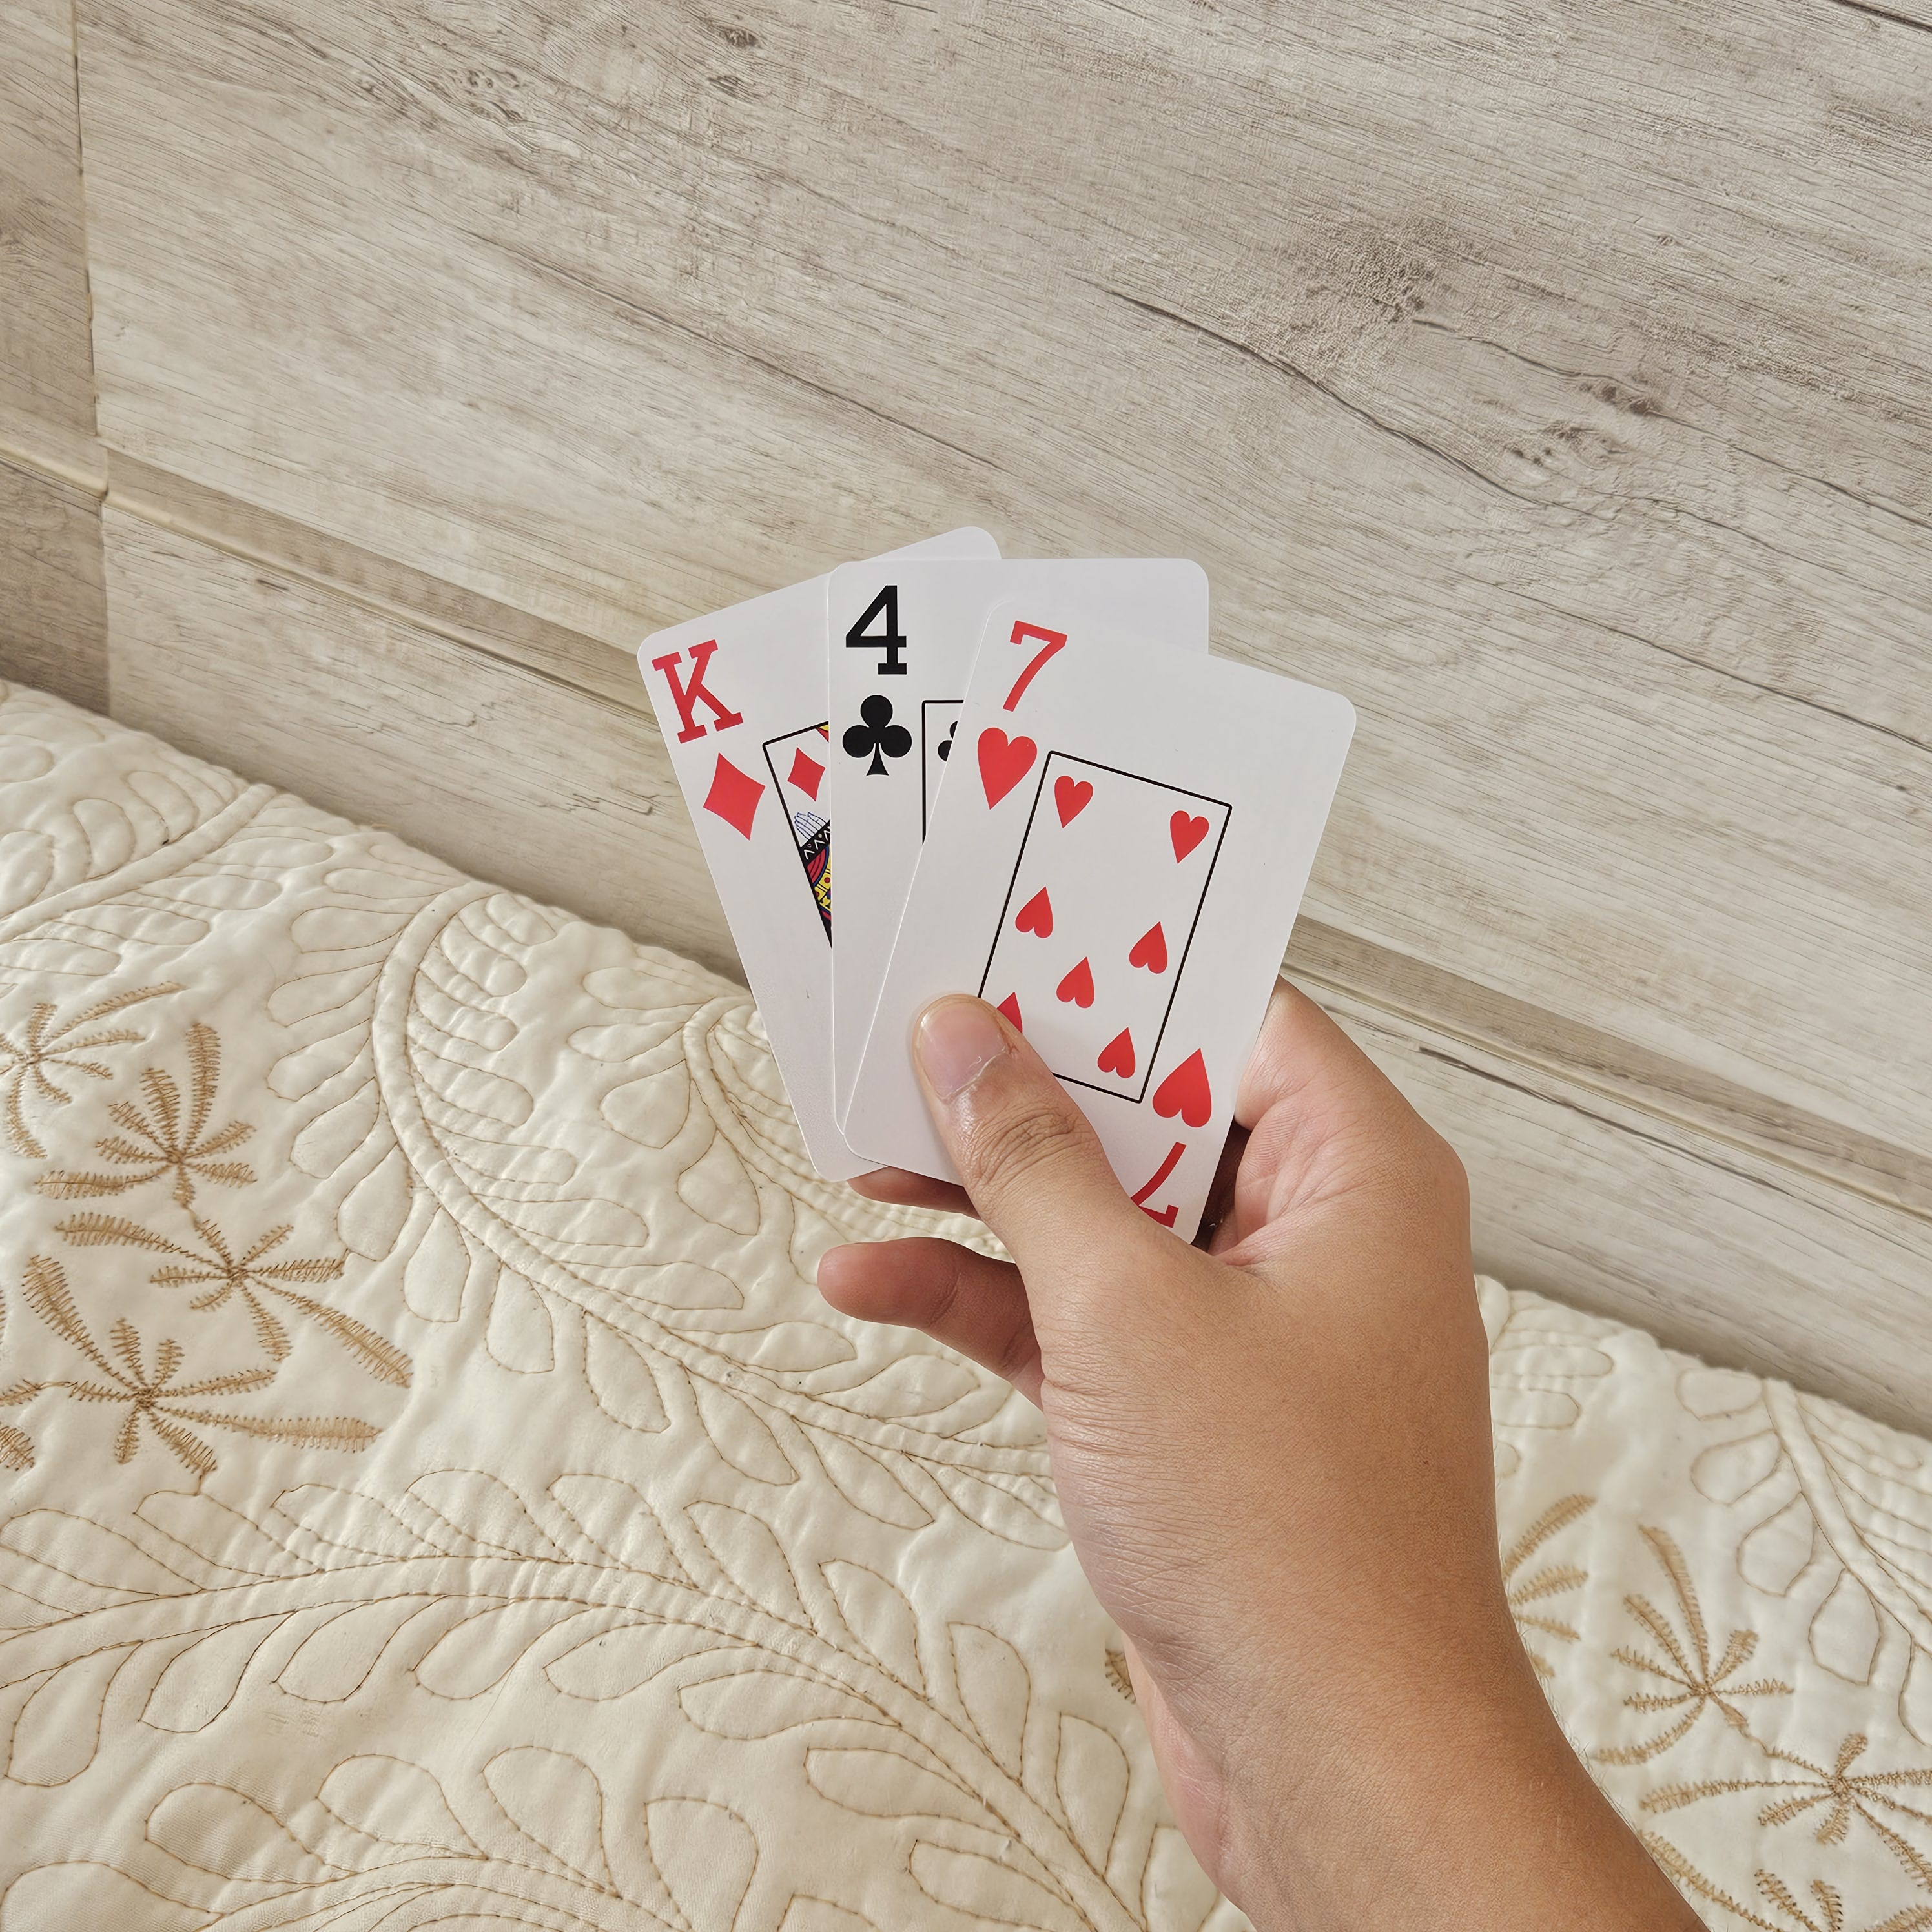4P: (830, 568, 920, 786)
7C: (964, 603, 1058, 819), (1138, 1037, 1217, 1233)
KO: (637, 623, 786, 860)
